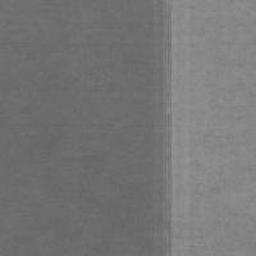Welding line: (168, 0, 173, 256)
